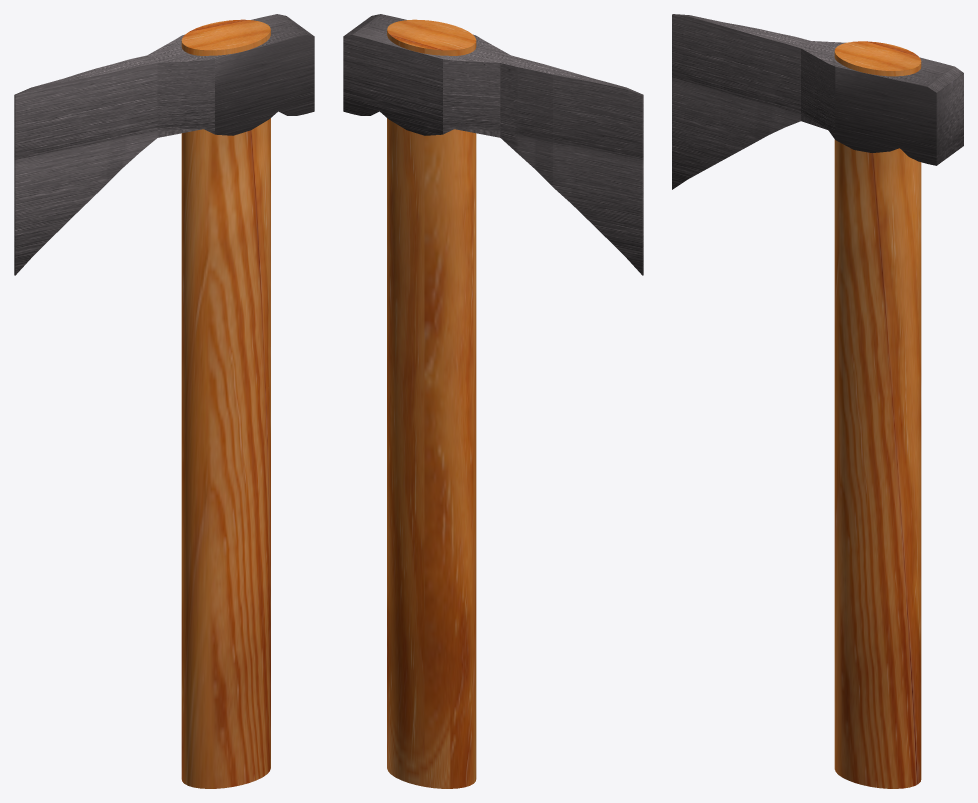
Rendered from Axe2.fbx.
3 renders of one model, left to right at view 1: azimuth 30°, elevation 25°; view 2: azimuth 150°, elevation 25°; view 3: azimuth 330°, elevation 25°, orthographic. The views are drawn at different scales.
Visible parts, largest first — view 1: Handle, Head; view 2: Handle, Head; view 3: Handle, Head.
Boxes of the visible parts, bbox=[...] form: Handle: bbox=[181, 19, 270, 788]; Head: bbox=[14, 14, 314, 275]; Handle: bbox=[387, 19, 476, 788]; Head: bbox=[343, 14, 643, 275]; Handle: bbox=[834, 41, 921, 788]; Head: bbox=[672, 14, 963, 189].
Bounding box in the file's own units: 103 × 253 × 20.35.
Materials: 2 (2 with a texture image).
